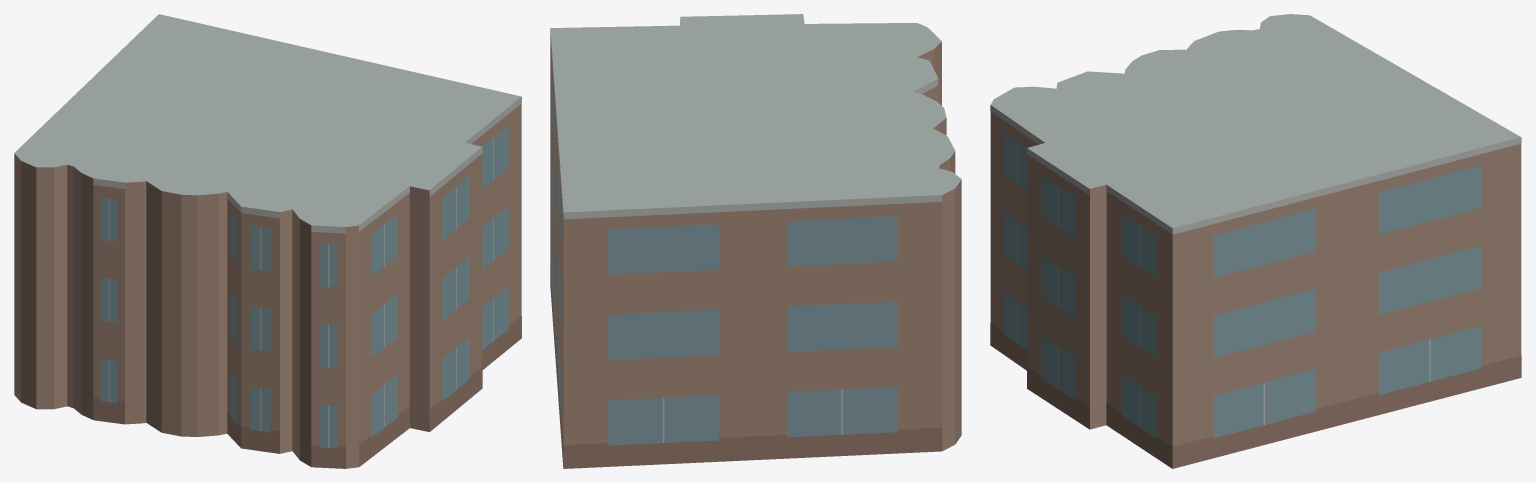
Rendered from survey-upis-32815803.glb.
3 renders of one model, left to right at view 1: azimuth 30°, elevation 25°; view 2: azimuth 150°, elevation 25°; view 3: azimuth 270°, elevation 25°, orthographic. The views are drawn at different scales.
Visible parts, largest first — view 1: survey-upis-32815803.tmp; view 2: survey-upis-32815803.tmp; view 3: survey-upis-32815803.tmp.
Part boxes in pixels (x1,y1,x2,y2): survey-upis-32815803.tmp: (14, 14, 521, 468); survey-upis-32815803.tmp: (550, 14, 961, 468); survey-upis-32815803.tmp: (990, 14, 1521, 468).
Size of the model in its own units: 17.49 by 9.15 by 18.31.
